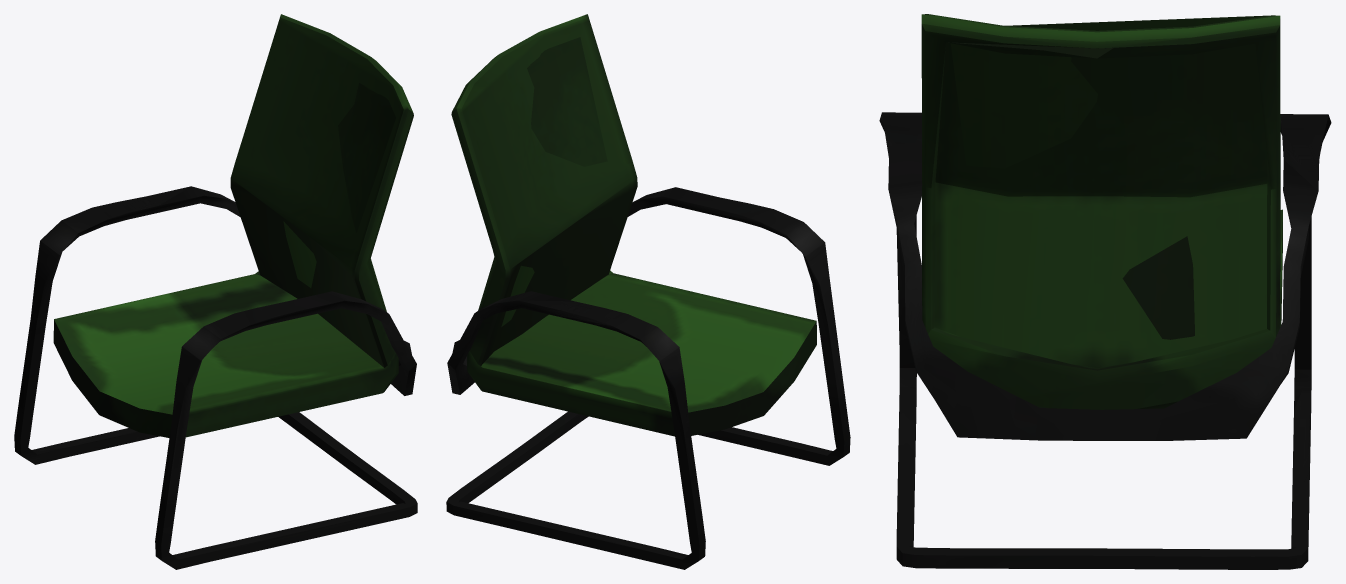
The model's file is Tx_prop_chair_computing.fbx.
The picture shows the model from 3 angles, left to right: view 1: azimuth 30°, elevation 25°; view 2: azimuth 150°, elevation 25°; view 3: azimuth 270°, elevation 25°; orthographic projection. The views are drawn at different scales.
Parts seen in each view (by area): view 1: Tx_prop_chair_computing; view 2: Tx_prop_chair_computing; view 3: Tx_prop_chair_computing.
Part boxes in pixels (left/top/right/bottom): Tx_prop_chair_computing: left=14, top=14, right=417, bottom=569; Tx_prop_chair_computing: left=446, top=14, right=850, bottom=569; Tx_prop_chair_computing: left=879, top=14, right=1331, bottom=569.
Size of the model in its own units: 4.23 by 5.62 by 4.18.
